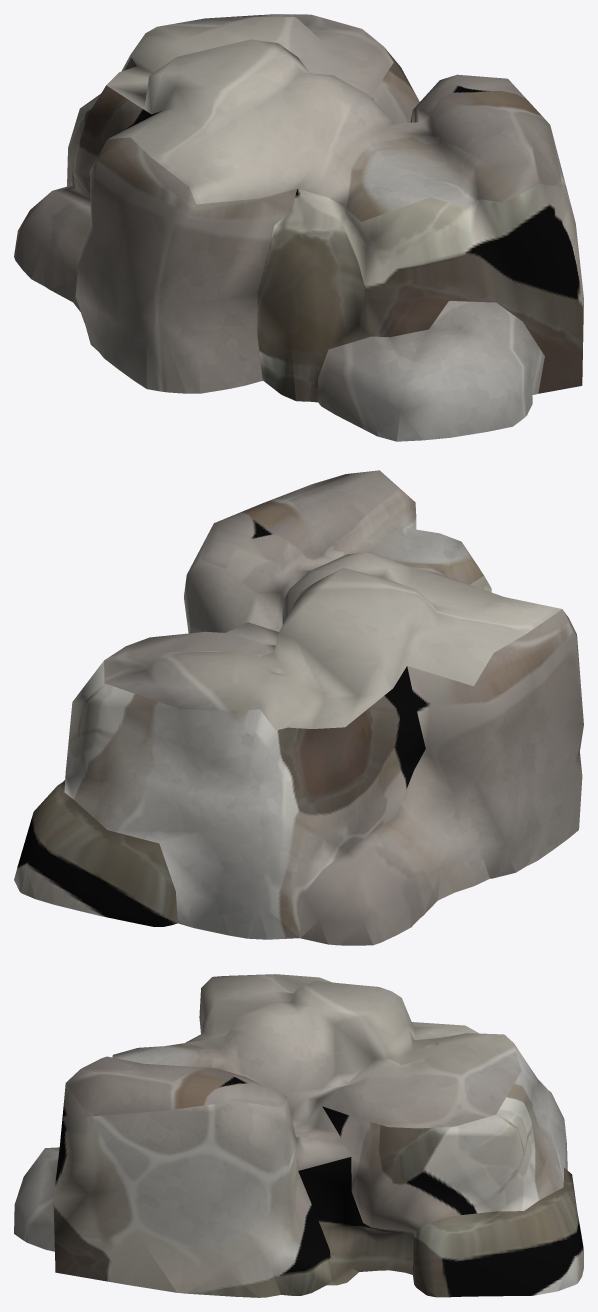
File: cliffrock_top.obj
3 views of the same model, one above another, from view 1: azimuth 30°, elevation 25°; view 2: azimuth 150°, elevation 25°; view 3: azimuth 270°, elevation 25° (orthographic). The views are drawn at different scales.
Visible parts, largest first — view 1: cliffrock:Mesh; view 2: cliffrock:Mesh; view 3: cliffrock:Mesh.
Part boxes in pixels (box(x1,y1,x2,y2)): cliffrock:Mesh: box(14, 14, 583, 441); cliffrock:Mesh: box(14, 470, 583, 945); cliffrock:Mesh: box(14, 974, 583, 1297).
Bounding box in the file's own units: 242 × 147 × 361.
